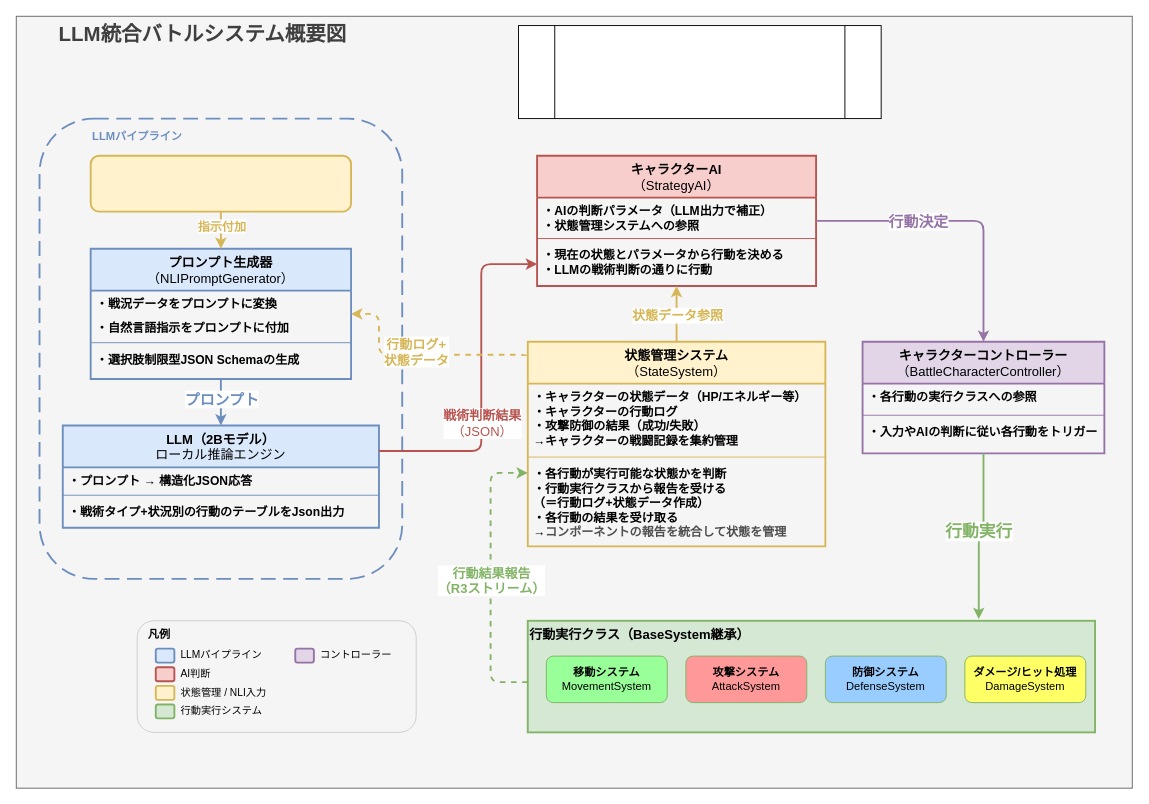
Some shapes in this 1149 by 804 pixel diagram are drawn without their labels. Here are the shapes that lost their labels. From the top down, the centre of each, then its label:
At pixel 699 72: "～簡単なまとめ～ ①StateSystemに全ての情報を集める ②集めた情報をプロンプトに変換 ③LLMに渡して行動を生成する".
At pixel 220 183: "自然言語命令（NLI） Natural Language Instruction".
